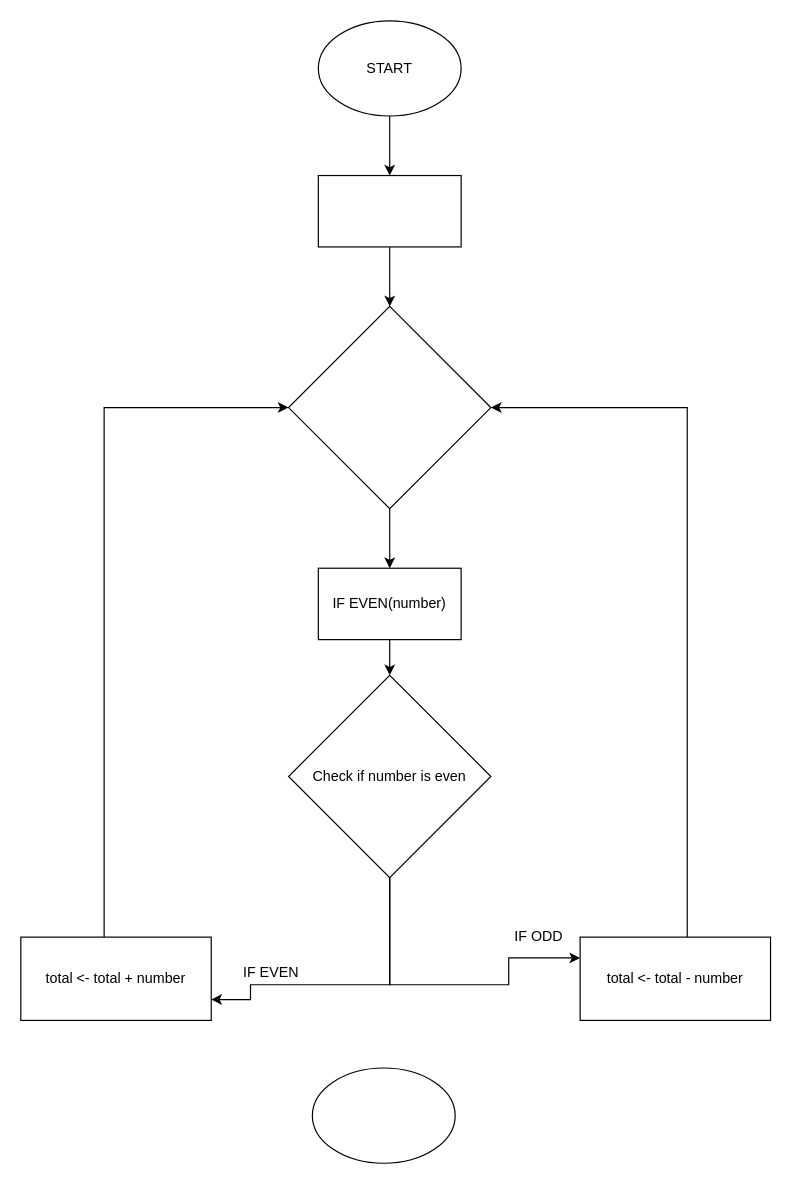
Some shapes in this 791 by 1184 pixel diagram are drawn without their labels. The box of each missing label's shape, as (x1, y1, x2, y2) in pixels:
END: (311, 1067, 455, 1163)
FOR EACH number IN List: (287, 305, 491, 509)
SET total TO 0: (317, 174, 461, 247)
